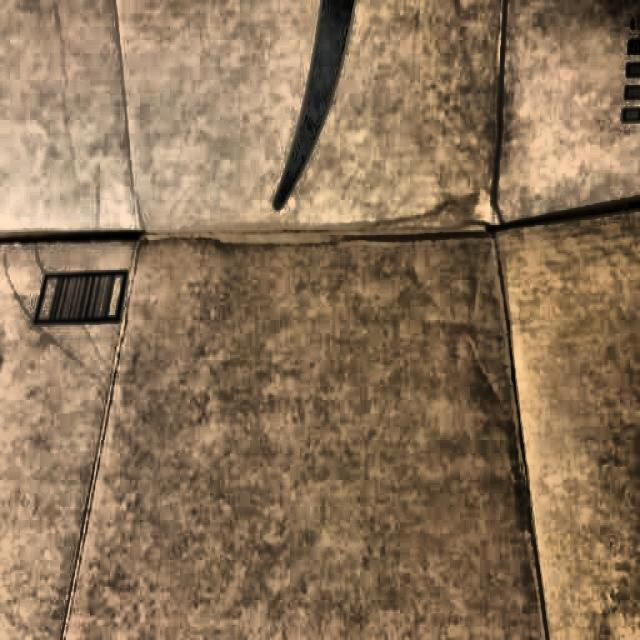cardboard: (5, 9, 631, 625)
